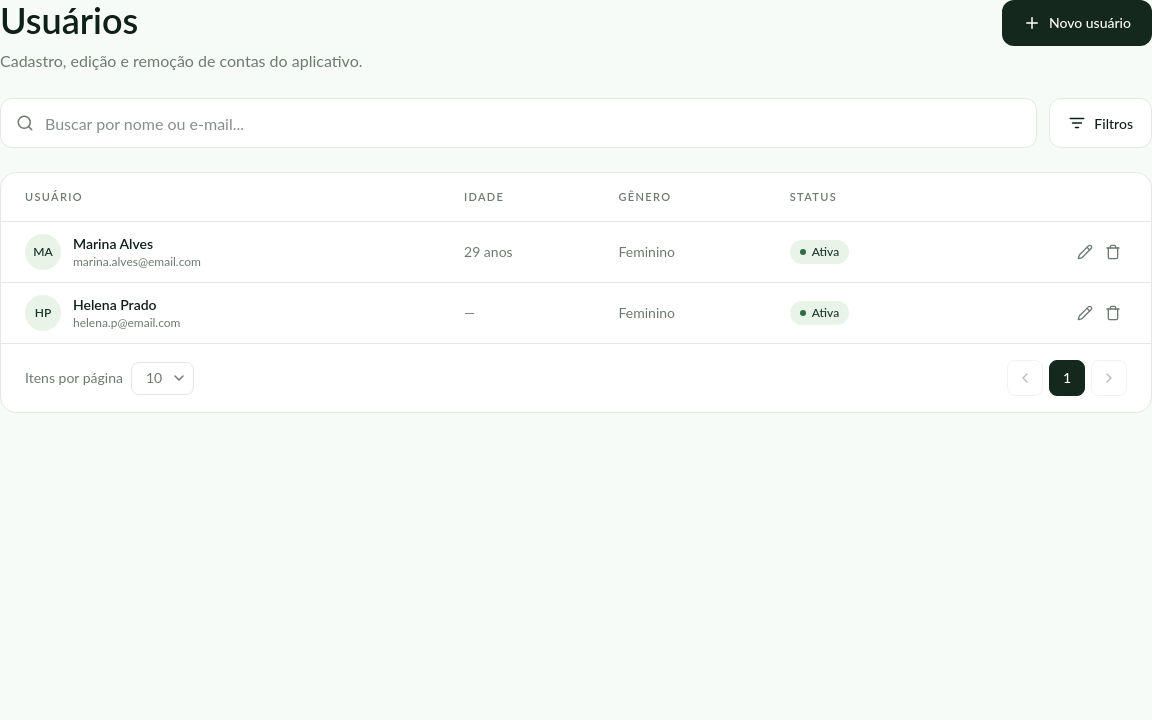
Scenario: Users › edits a user from the details modal
The image size is (1152, 720).
Expected: the text "Marina Alves" is shown, [73,235,153,252]
Click the button with aria-label "Ver detalhes de Marina Alves" at coordinates (113, 252), box [25,234,201,270]
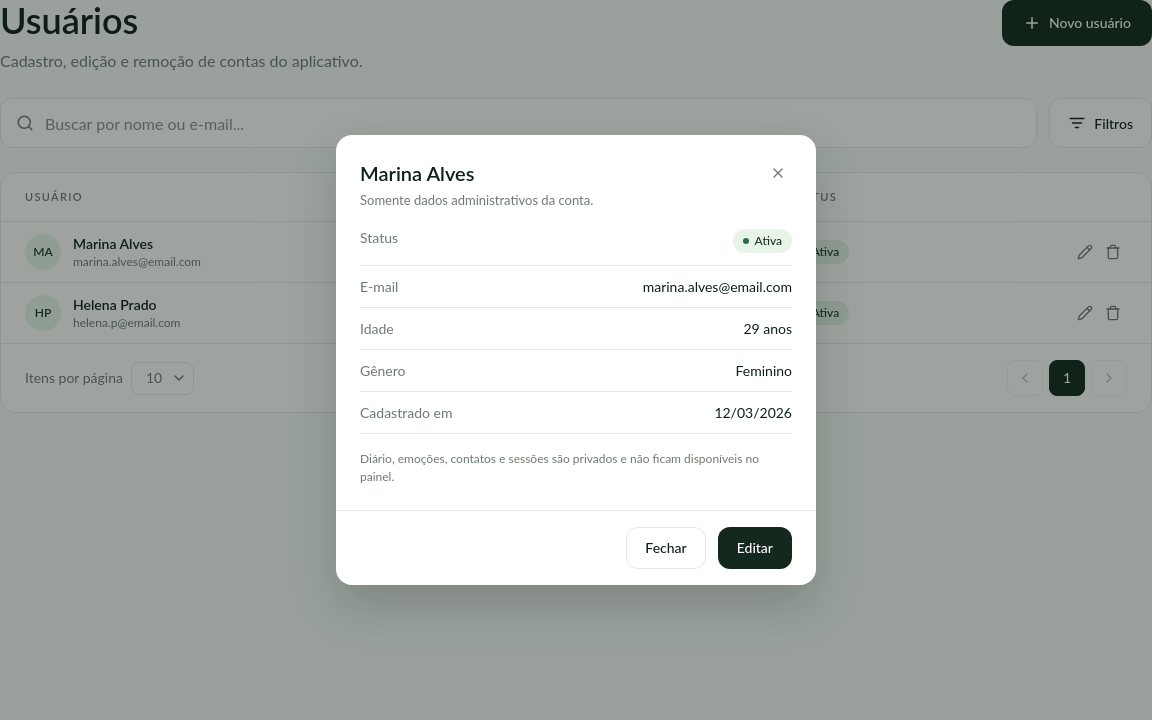
Expected: the text "marina.alves@email.com" is shown, [643,278,792,295]
Click the button "Editar" at coordinates (755, 548), box [718,527,792,569]
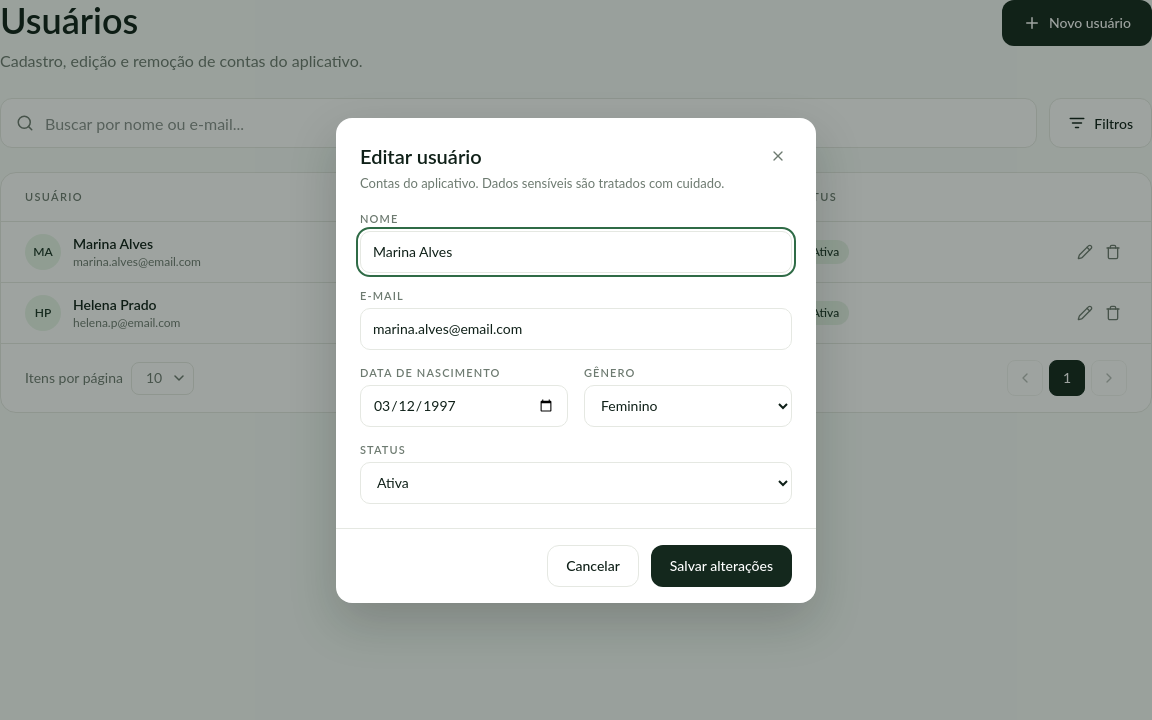
Replace the text in the field labelled "Nome" with "Marina A. Alves" at coordinates (576, 252), box [360,230,792,272]
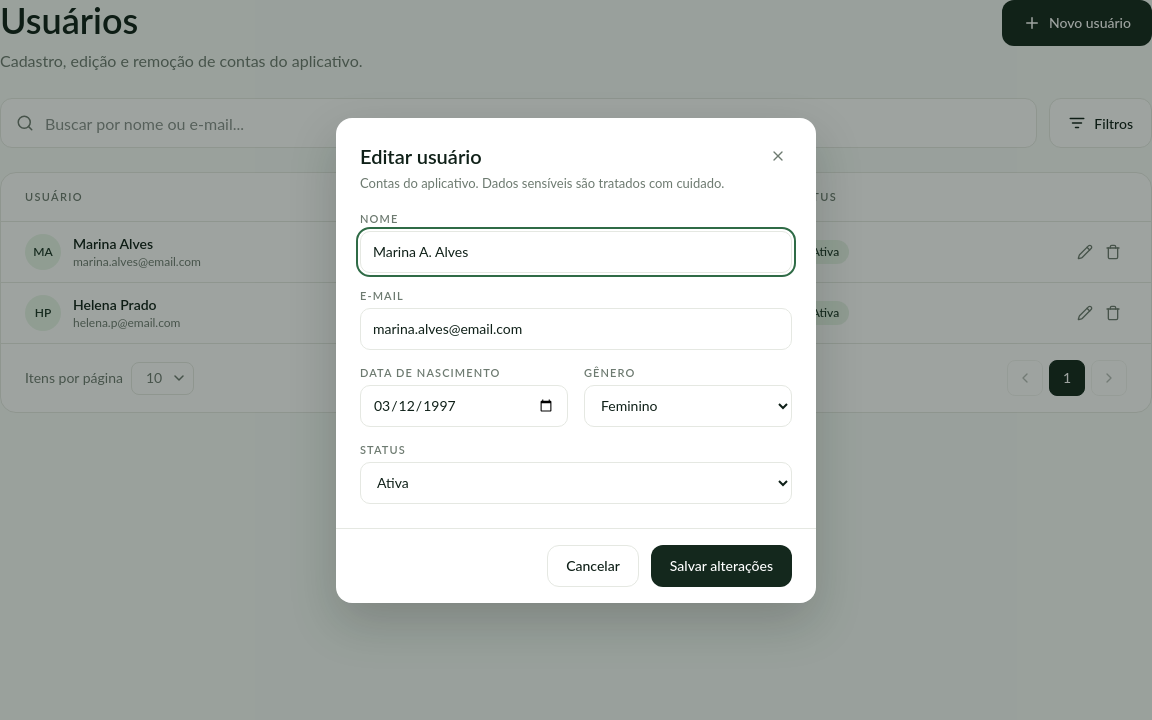
Click the button "Salvar alterações" at coordinates (721, 566), box [651,544,792,586]
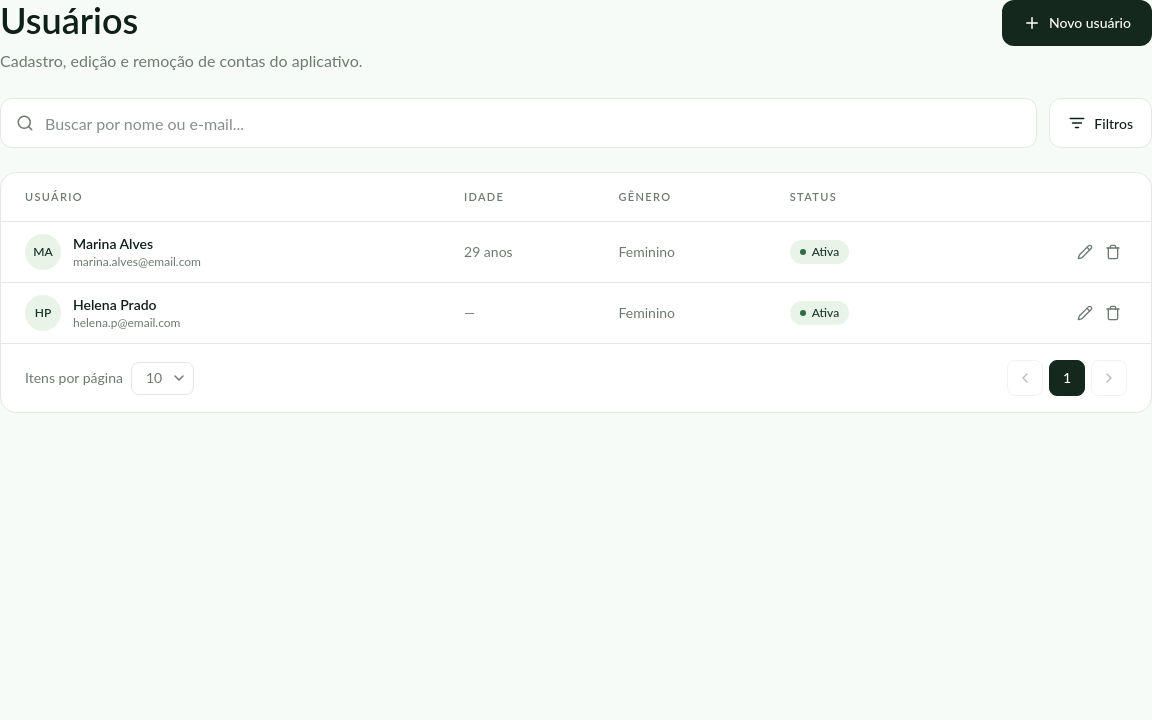
Expected: the dialog is gone
